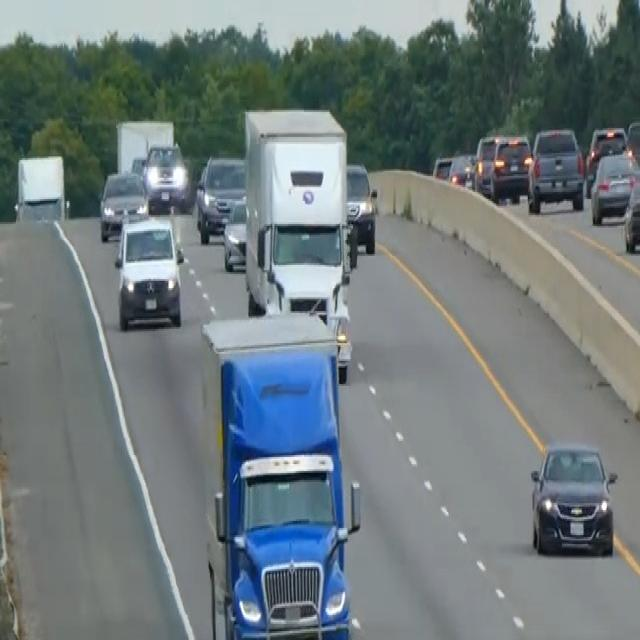car: (528, 438, 618, 558), (526, 124, 585, 213), (194, 151, 246, 242), (589, 149, 639, 224), (98, 167, 148, 240), (142, 138, 189, 212), (584, 122, 626, 196), (345, 158, 377, 252), (489, 133, 531, 203), (472, 132, 505, 194), (222, 196, 248, 272), (622, 174, 639, 254), (447, 150, 476, 188), (625, 117, 639, 176), (431, 153, 452, 181)
lorry: (198, 308, 362, 638), (241, 103, 357, 377)
minivan: (113, 212, 184, 331)
